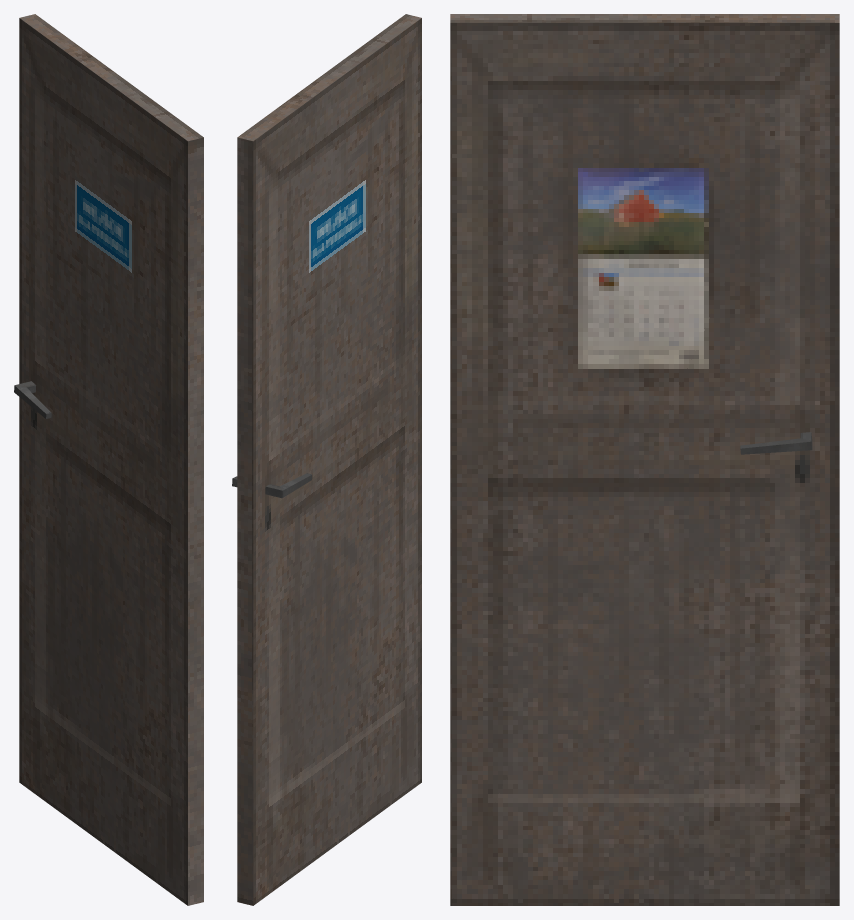
Rendered from ZapleczeDrzwi.gltf.
3 renders of one model, left to right at view 1: azimuth 30°, elevation 25°; view 2: azimuth 150°, elevation 25°; view 3: azimuth 270°, elevation 25°, orthographic. The views are drawn at different scales.
Visible parts, largest first — view 1: ZapleczeDrzwi1; view 2: ZapleczeDrzwi1; view 3: ZapleczeDrzwi1.
Boxes of the visible parts, box(x1,y1,x2,y2) form: ZapleczeDrzwi1: box(14, 14, 203, 905); ZapleczeDrzwi1: box(232, 14, 421, 905); ZapleczeDrzwi1: box(450, 14, 839, 905).
Bounding box in the file's own units: 0.1371 × 1.99 × 0.7971.
1 material, 1 textured.
